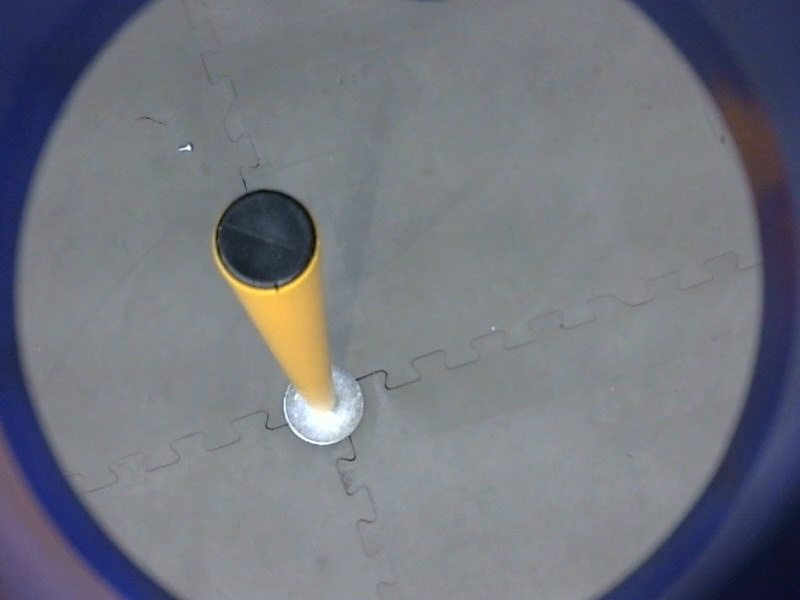tip: (207, 183, 325, 296)
